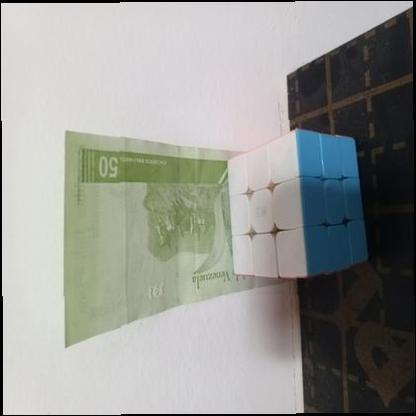vef_back: (63, 128, 294, 350)
